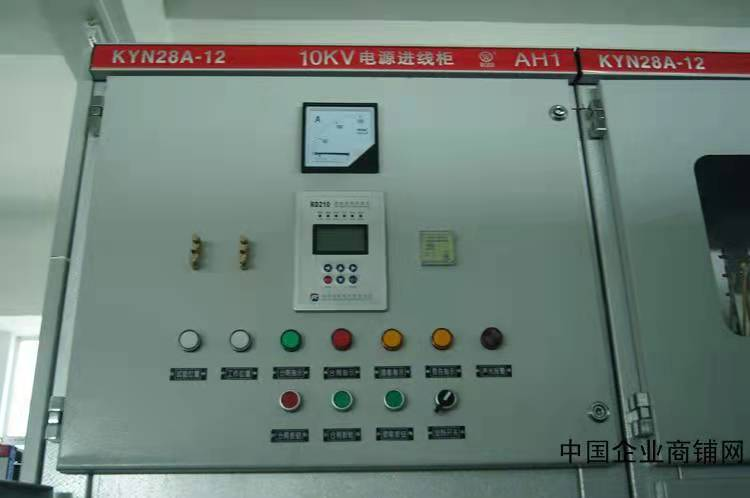pointer: (303, 103, 377, 172)
